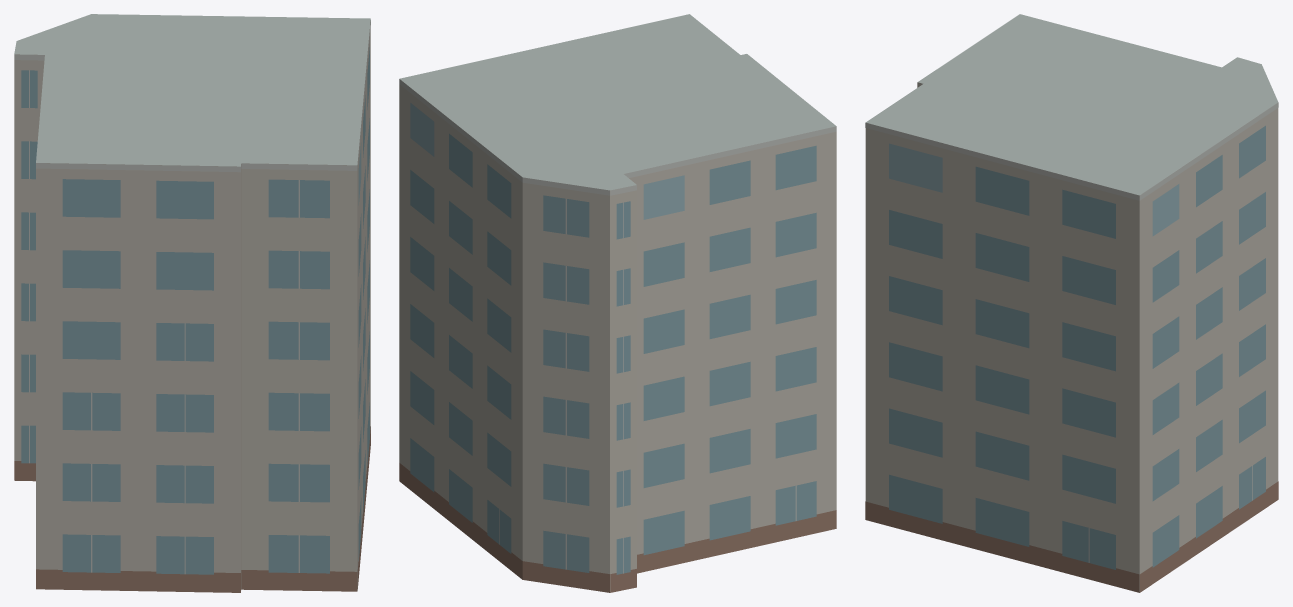
File: survey-upis-32765321.glb
3 renders of one model, left to right at view 1: azimuth 30°, elevation 25°; view 2: azimuth 150°, elevation 25°; view 3: azimuth 270°, elevation 25°, orthographic. The views are drawn at different scales.
Visible parts, largest first — view 1: survey-upis-32765321.tmp; view 2: survey-upis-32765321.tmp; view 3: survey-upis-32765321.tmp.
Boxes of the visible parts, x1,y1,x2,y2 form: survey-upis-32765321.tmp: (14, 14, 370, 592); survey-upis-32765321.tmp: (399, 14, 836, 592); survey-upis-32765321.tmp: (865, 14, 1278, 592).
Size of the model in its own units: 17.94 by 18.3 by 17.25.
